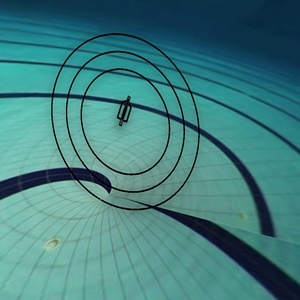circle: (36, 25, 215, 217)
submarine: (108, 90, 148, 132)
